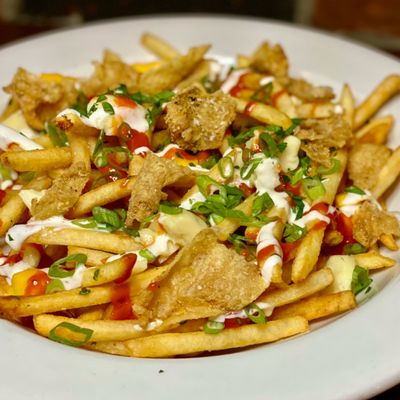sandwich: (0, 37, 398, 359)
